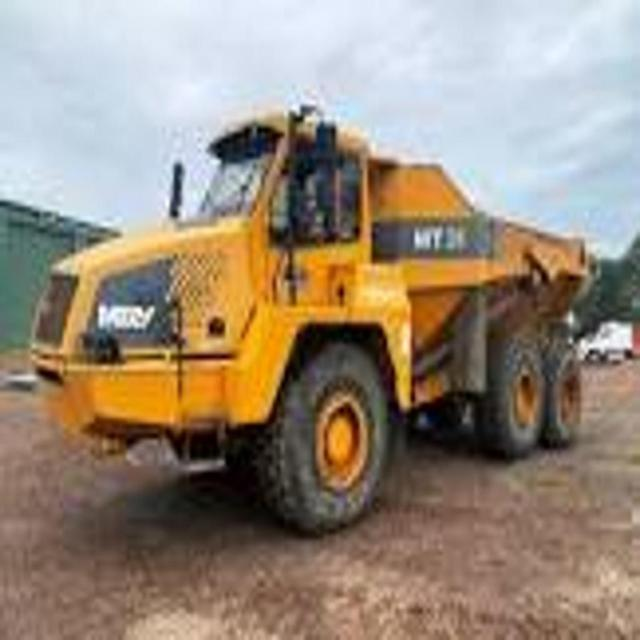dump_truck: (28, 84, 593, 540)
